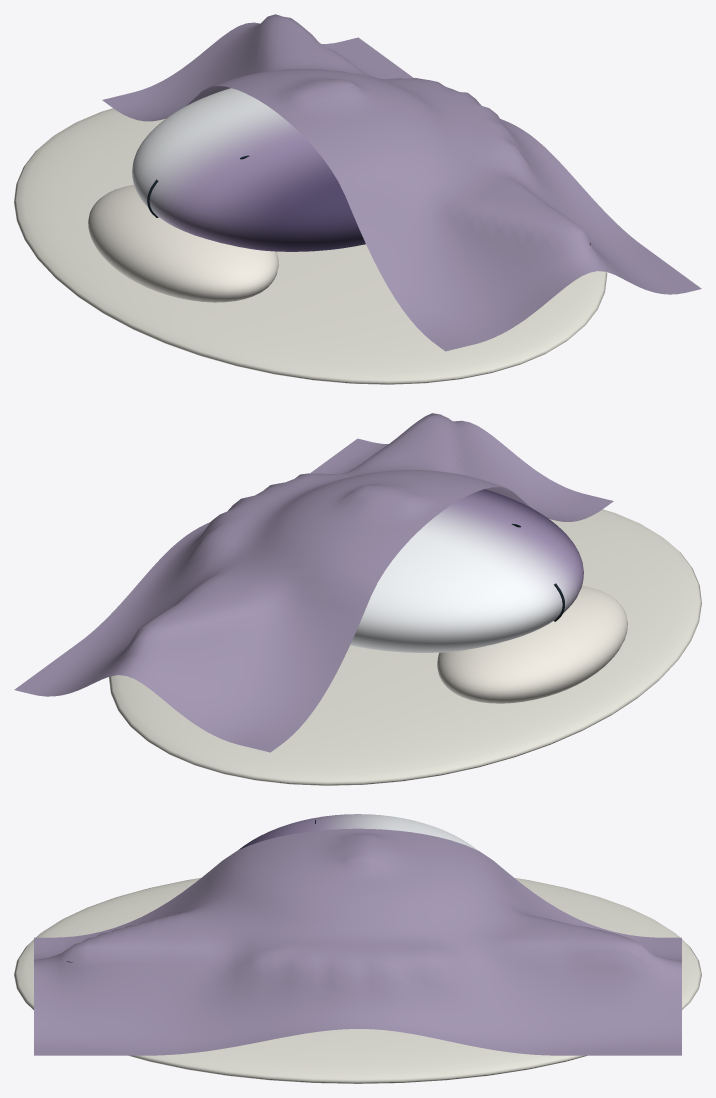
File: covered.glb
3 renders of one model, top to bottom at view 1: azimuth 30°, elevation 25°; view 2: azimuth 150°, elevation 25°; view 3: azimuth 270°, elevation 25°, orthographic. The views are drawn at different scales.
Parts seen in each view (by area): view 1: KiabouBlanket, KiabouBed, KiabouRestBody, KiabouPillow; view 2: KiabouBlanket, KiabouBed, KiabouRestBody, KiabouPillow; view 3: KiabouBlanket, KiabouBed, KiabouRestBody.
Boxes of the visible parts, <box> form: KiabouBlanket: <box>102,14,701,351</box>; KiabouBed: <box>14,108,607,384</box>; KiabouRestBody: <box>132,88,590,251</box>; KiabouPillow: <box>88,185,278,302</box>; KiabouBlanket: <box>14,413,613,752</box>; KiabouBed: <box>109,509,701,785</box>; KiabouRestBody: <box>350,489,583,652</box>; KiabouPillow: <box>437,586,627,703</box>; KiabouBlanket: <box>34,828,681,1055</box>; KiabouBed: <box>14,878,701,1083</box>; KiabouRestBody: <box>66,814,477,962</box>.
Bounding box in the file's own units: 0.228 × 0.0768 × 0.308.
7 materials, 3 textured.
